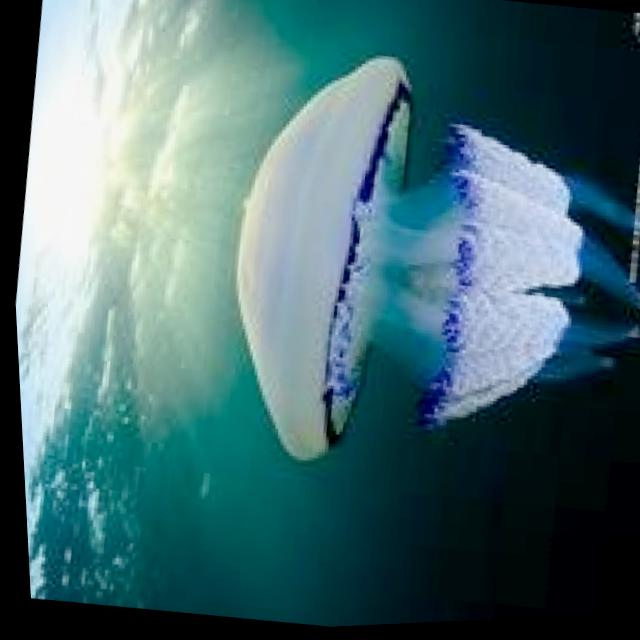Jellyfish: (189, 28, 640, 512)
